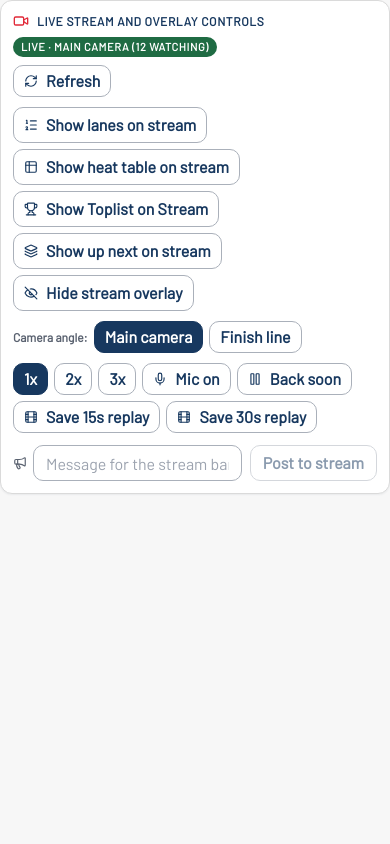
Test case: filters ended cameras and other arenas before choosing a director angle
Click the button "Finish line". click: (255, 337)
box: [209, 321, 302, 353]
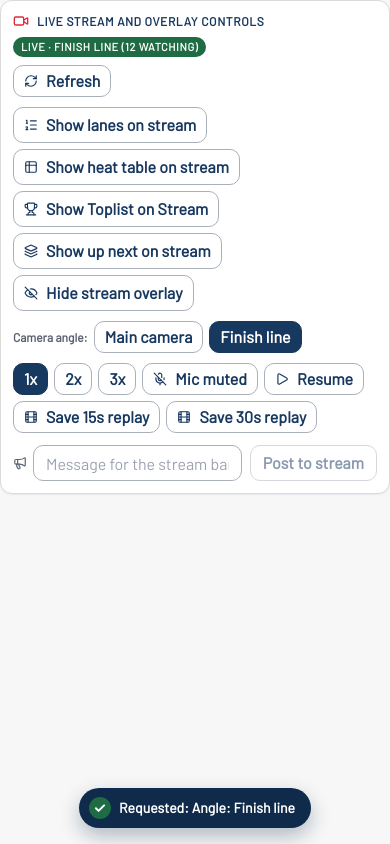
Result: the button with aria-label "Unmute stream mic" is shown at [142, 363, 258, 395]
Result: the button with aria-label "Resume stream" is shown at [264, 363, 364, 395]
